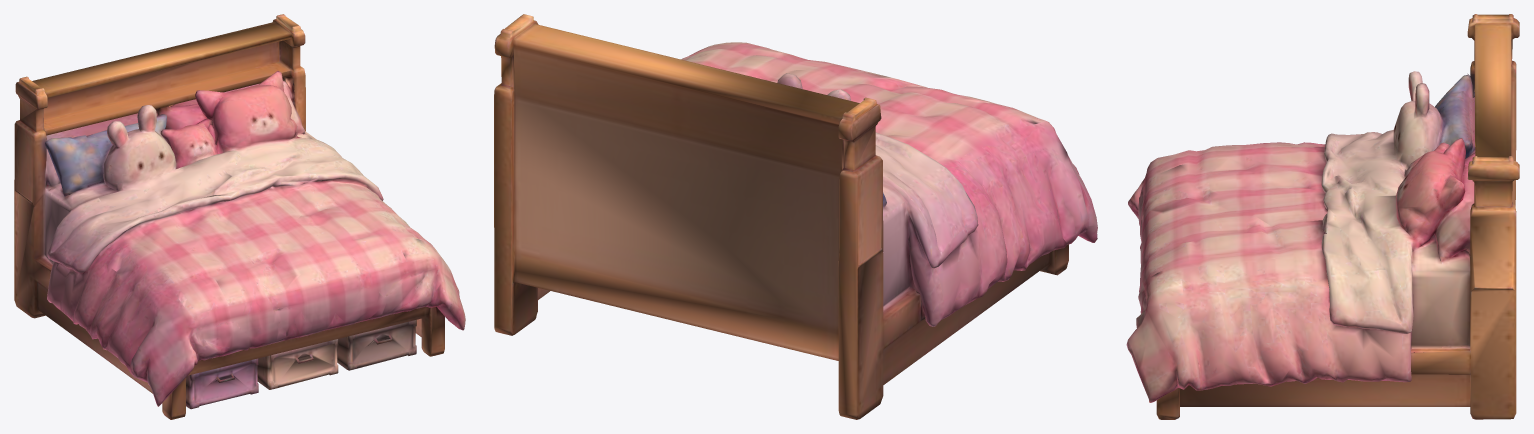
Rendered from bed_bunny.glb.
3 views of the same model, side by side, from view 1: azimuth 30°, elevation 25°; view 2: azimuth 150°, elevation 25°; view 3: azimuth 270°, elevation 25° (orthographic). The views are drawn at different scales.
Visible parts, largest first — view 1: prop; view 2: prop; view 3: prop.
Part boxes in pixels (<box>): prop: <box>14,14,465,419</box>; prop: <box>494,14,1097,419</box>; prop: <box>1126,14,1519,419</box>.
Size of the model in its own units: 1.5 by 1 by 1.38.
Materials: 1 (1 with a texture image).
